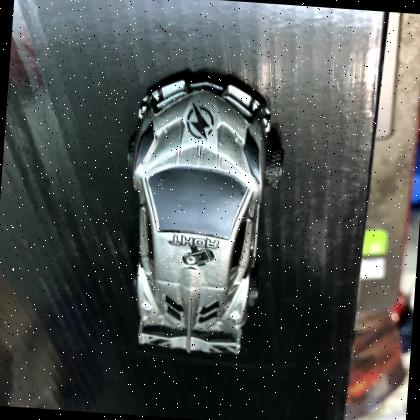Car: (128, 73, 270, 354)
